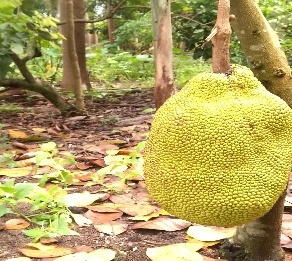Mit: (148, 67, 292, 225)
